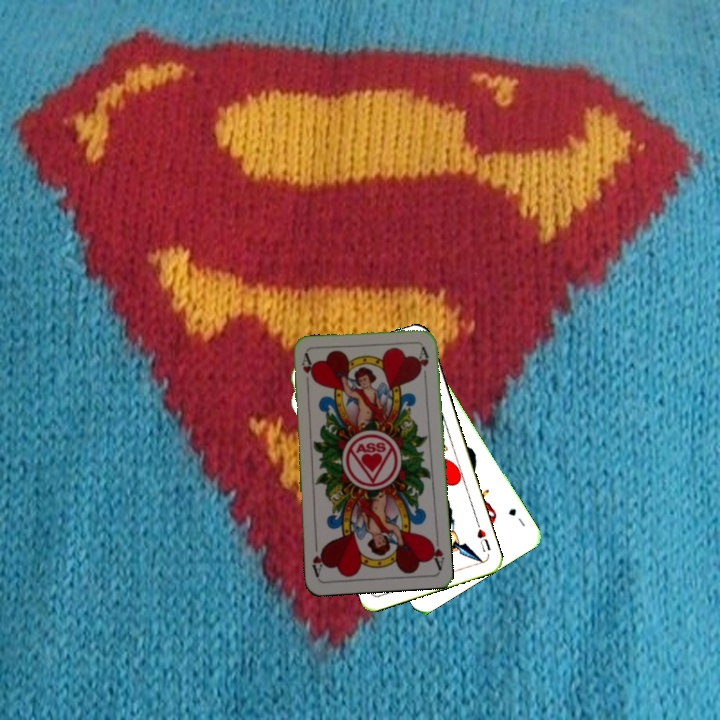GU: (504, 504, 528, 529)
HA: (426, 531, 447, 571), (297, 350, 314, 391)
HU: (472, 518, 493, 555)
